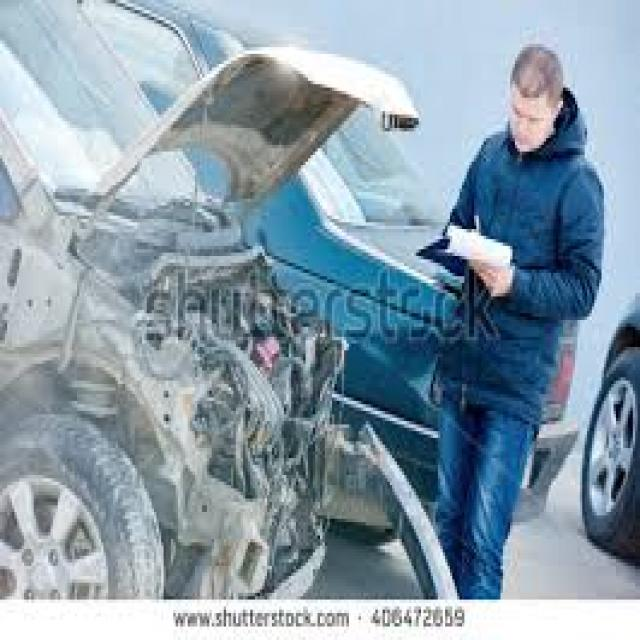moderate: (34, 34, 393, 578)
